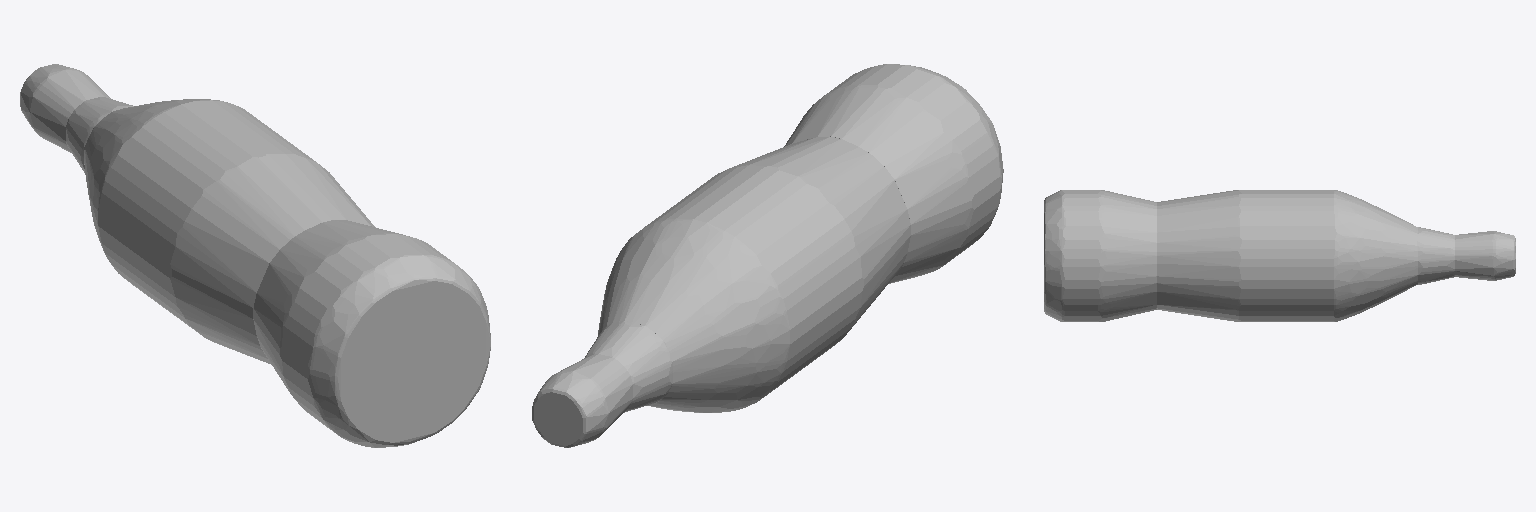
URDF robot description (root):
<?xml version="1.0"?>
<robot name="root">
  <link name="base_link">
    <visual>
      <origin xyz="0 0 0" rpy="0 0 0" />
      <geometry>
        <mesh filename="../meshes/unidex_core_bottle-1ef68777bfdb7d6ba7a07ee616e34cd7_008.obj" scale="1.0000E+00 1.0000E+00 1.0000E+00" />
      </geometry>
      <material name="">
        <color rgba="7.50E-01 7.50E-01 7.50E-01 1" />
      </material>
    </visual>
    <collision>
      <origin xyz="0 0 0" rpy="0 0 0" />
      <geometry>
        <mesh filename="../meshes/unidex_core_bottle-1ef68777bfdb7d6ba7a07ee616e34cd7_008.obj" scale="1.0000E+00 1.0000E+00 1.0000E+00" />
      </geometry>
    </collision>
  </link>
</robot>

--- Facts derived from the render (not from the file) ---
3 views of the same robot in one strip: view 1: azimuth 30°, elevation 25°; view 2: azimuth 150°, elevation 25°; view 3: azimuth 270°, elevation 25° (orthographic).
Model root with 1 links and 0 joints (none), rooted at base_link, posed every joint at zero.
Links seen in each view (by area): view 1: base_link; view 2: base_link; view 3: base_link.
Boxes of the visible links, x1,y1,x2,y2 form: base_link: [20, 64, 490, 447]; base_link: [532, 64, 1003, 447]; base_link: [1044, 190, 1515, 321].
Bounding box of the posed robot: 0.0431 × 0.1525 × 0.0431 m (x, y, z).
1 mesh visuals loaded from 1 distinct referenced files (1 OBJ).
